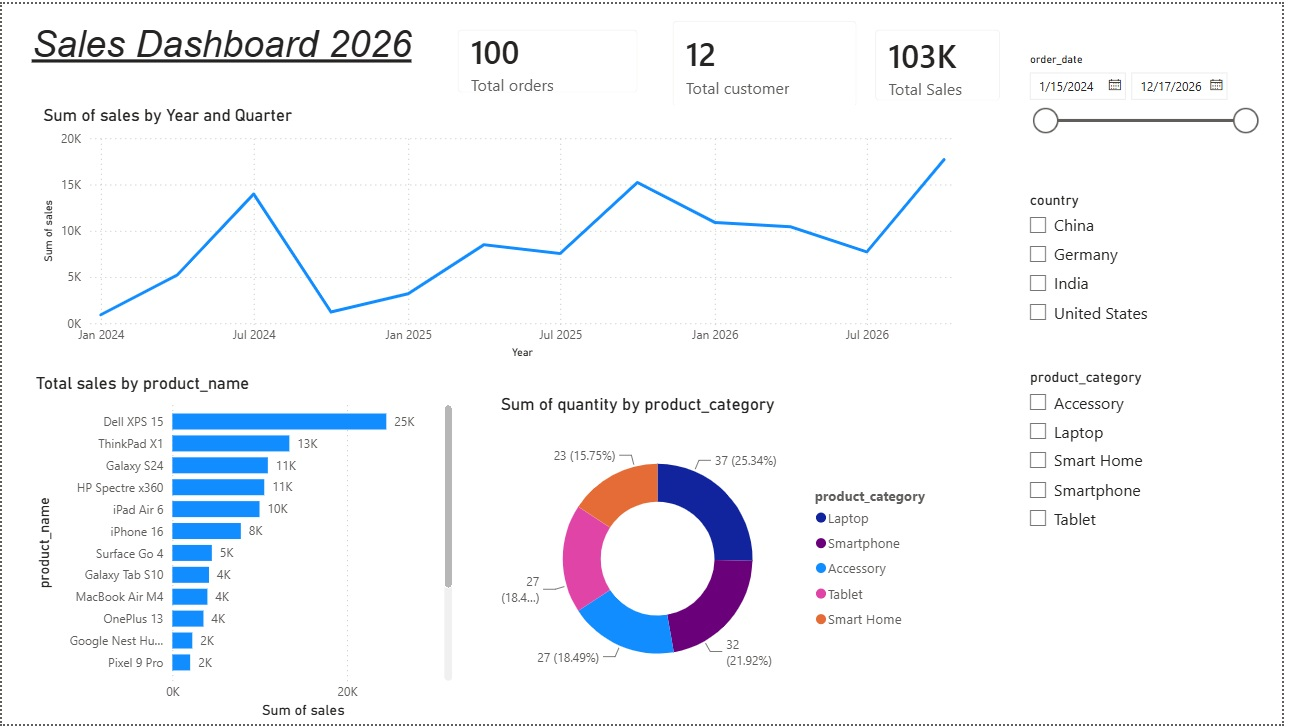

This screenshot's page, from the dashboard's own definition file:
{"tool":"powerbi","page":{"name":"Page 1","canvas":[1280,720],"ordinal":0},"visuals":[{"type":"barChart","title":"Total sales by product_name","fields":{"Category":["orders.product_name"],"Y":["Sum(orders.sales)"]},"box":[28.1,369.3,426.8,351],"z":0},{"type":"donutChart","fields":{"Category":["orders.product_category"],"Y":["Sum(orders.quantity)"]},"box":[494,390.1,450,310.6],"z":1000},{"type":"cardVisual","fields":{"Data":["Count(orders.customer_id)"]},"box":[653.2,0,218.2,120.8],"z":2000},{"type":"cardVisual","fields":{"Data":["CountNonNull(orders.order_id)"]},"box":[439.1,8.2,214.1,97.4],"z":3000},{"type":"lineChart","fields":{"Category":["orders.order_date.Variation.Date Hierarchy.Year","orders.order_date.Variation.Date Hierarchy.Quarter","orders.order_date.Variation.Date Hierarchy.Month","orders.order_date.Variation.Date Hierarchy.Day"],"Y":["Sum(orders.sales)"]},"box":[36.7,101.5,933,258],"z":4000},{"type":"slicer","fields":{"Values":["customers.country"]},"box":[1015.4,182.5,226.4,159.2],"z":5000},{"type":"slicer","fields":{"Values":["orders.product_category"]},"box":[1015.4,359.5,253.9,253.9],"z":6000},{"type":"slicer","fields":{"Values":["orders.order_date"]},"box":[1015.4,43.9,249.7,140],"z":7000},{"type":"cardVisual","fields":{"Data":["Sum(orders.sales)"]},"box":[856.3,8.2,159.2,105.7],"z":8000},{"type":"textbox","box":[0,13.7,439.1,71.4],"z":9000}]}

Visuals, with their boxes in screenshot pixels (x1, y1, x2, y2), scaled from the page's 1280x720 canvas onto the 1290x727 screenshot:
"Total sales by product_name" barChart: 28, 373, 458, 726
donutChart - orders.product_category x Sum(orders.quantity): 498, 394, 951, 708
cardVisual - Count(orders.customer_id): 658, 0, 878, 122
cardVisual - CountNonNull(orders.order_id): 443, 8, 658, 107
lineChart - orders.order_date.Variation.Date Hierarchy.Year x orders.order_date.Variation.Date Hierarchy.Quarter: 37, 102, 977, 363
slicer - customers.country: 1023, 184, 1252, 345
slicer - orders.product_category: 1023, 363, 1279, 619
slicer - orders.order_date: 1023, 44, 1275, 186
cardVisual - Sum(orders.sales): 863, 8, 1023, 115
textbox: 0, 14, 443, 86
